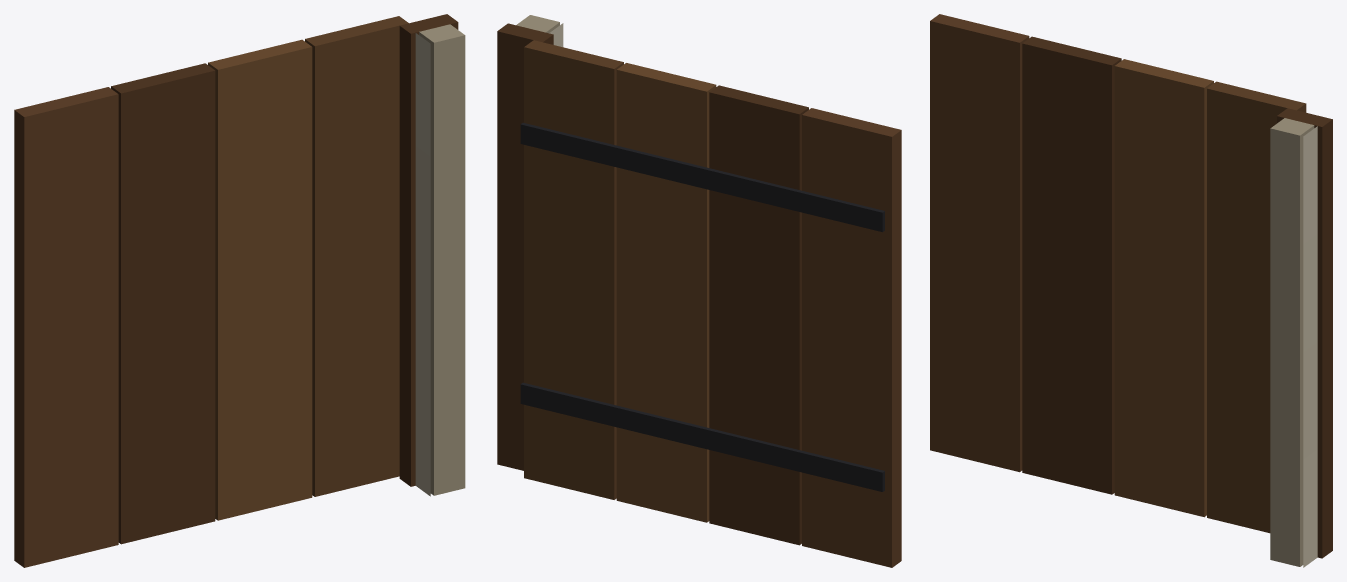
Rendered from wall-plaster-door-open-low-r.glb.
3 views of the same model, side by side, from view 1: azimuth 30°, elevation 25°; view 2: azimuth 150°, elevation 25°; view 3: azimuth 330°, elevation 25° (orthographic). The views are drawn at different scales.
Visible parts, largest first — view 1: wall-plaster-door-open-low-r; view 2: wall-plaster-door-open-low-r; view 3: wall-plaster-door-open-low-r.
Boxes of the visible parts, x1,y1,x2,y2 form: wall-plaster-door-open-low-r: (14, 14, 465, 567); wall-plaster-door-open-low-r: (497, 15, 901, 567); wall-plaster-door-open-low-r: (930, 14, 1332, 567).
Bounding box in the file's own units: 0.977 × 1 × 0.155.
